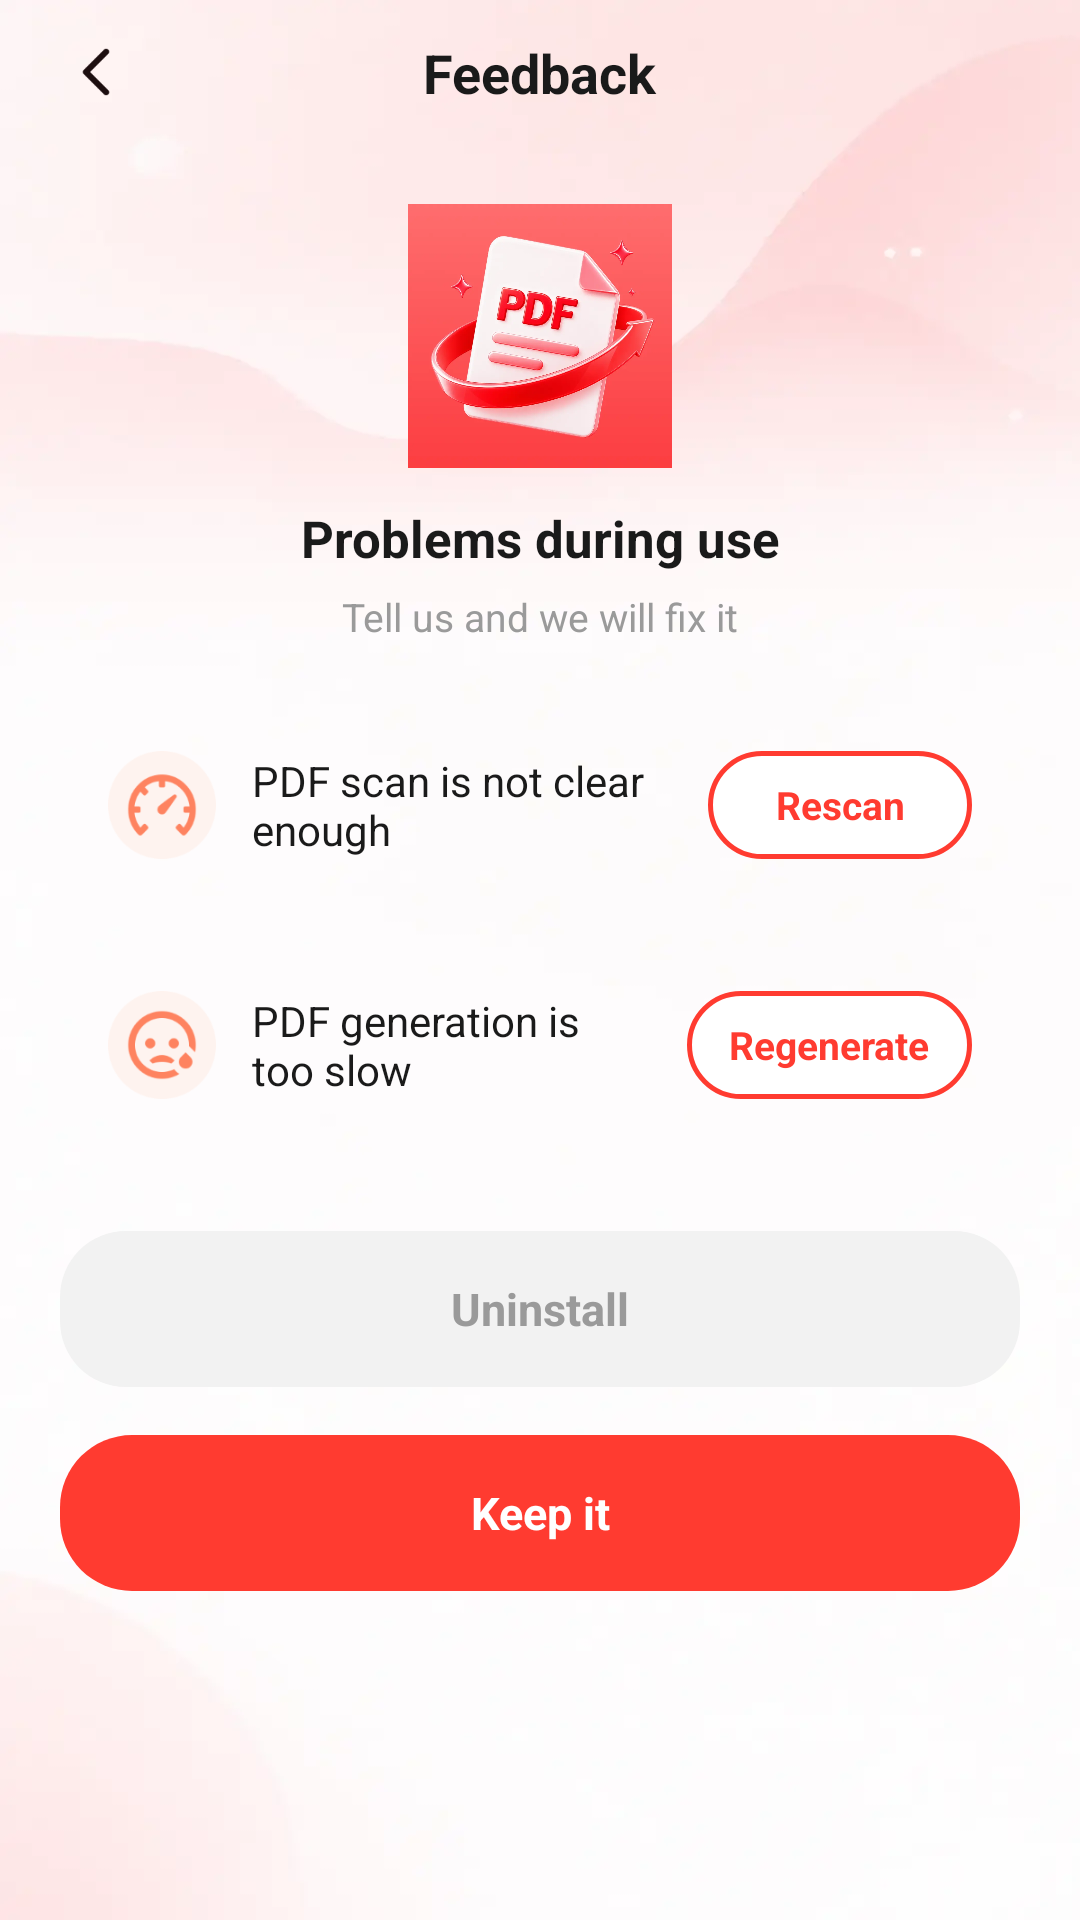

Screen size 1080px×1920px. Icon name, then its box in pixels as (x1, y1, x2, y2):
Back: (82, 48, 110, 96)
